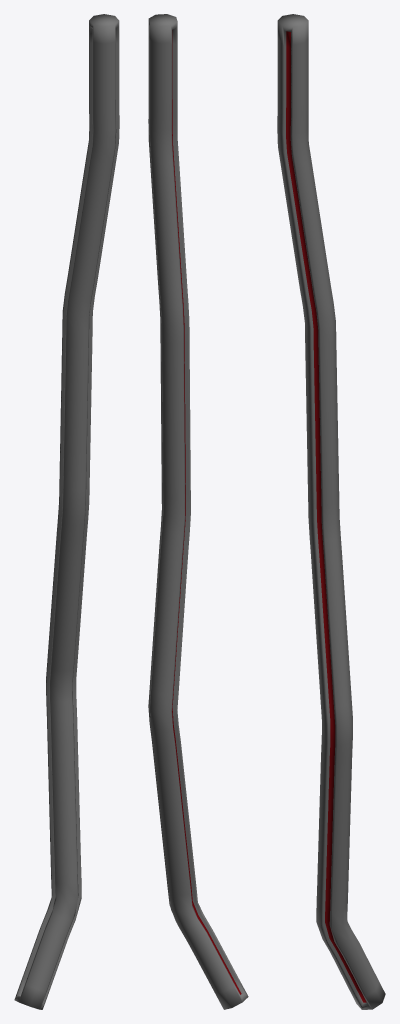
Rendered from HeartTube3.glb.
3 views of the same model, side by side, from view 1: azimuth 90°, elevation 25°; view 2: azimuth 210°, elevation 25°; view 3: azimuth 270°, elevation 25° (orthographic). The views are drawn at different scales.
Visible parts, largest first — view 1: Cylinder.004; view 2: Cylinder.004; view 3: Cylinder.004.
Part boxes in pixels (x1=…): Cylinder.004: x1=14, y1=14, x2=119, y2=1009; Cylinder.004: x1=148, y1=14, x2=248, y2=1009; Cylinder.004: x1=277, y1=14, x2=385, y2=1009.
Size of the model in its own units: 1.31 by 14.84 by 1.45.
